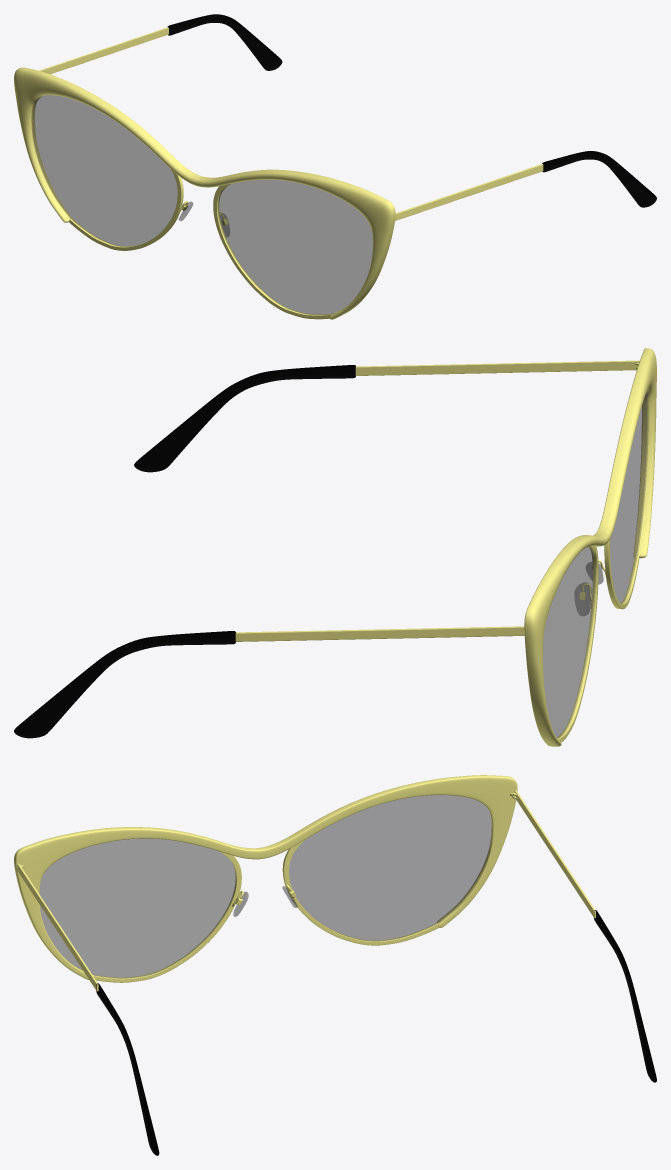
File: Ellen.glb
3 renders of one model, top to bottom at view 1: azimuth 30°, elevation 25°; view 2: azimuth 150°, elevation 25°; view 3: azimuth 270°, elevation 25°, orthographic. The views are drawn at different scales.
Parts seen in each view (by area): view 1: Circle; view 2: Circle; view 3: Circle.
Part boxes in pixels (left/top/right/bottom): Circle: left=14, top=14, right=656, bottom=319; Circle: left=14, top=348, right=656, bottom=746; Circle: left=14, top=775, right=656, bottom=1155.
Bounding box in the file's own units: 0.1501 × 0.0446 × 0.1647.
